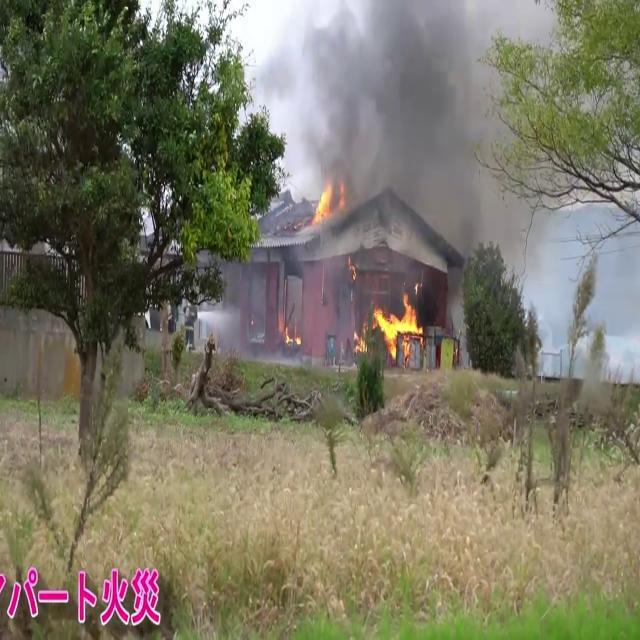Fire: (367, 286, 425, 357), (310, 176, 336, 229)
Smoke: (285, 0, 515, 245)
